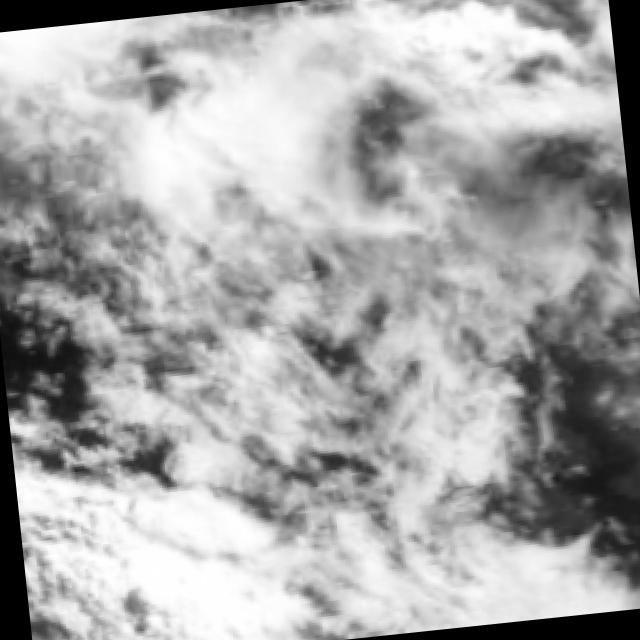CB: (161, 86, 350, 232), (74, 487, 249, 640)
